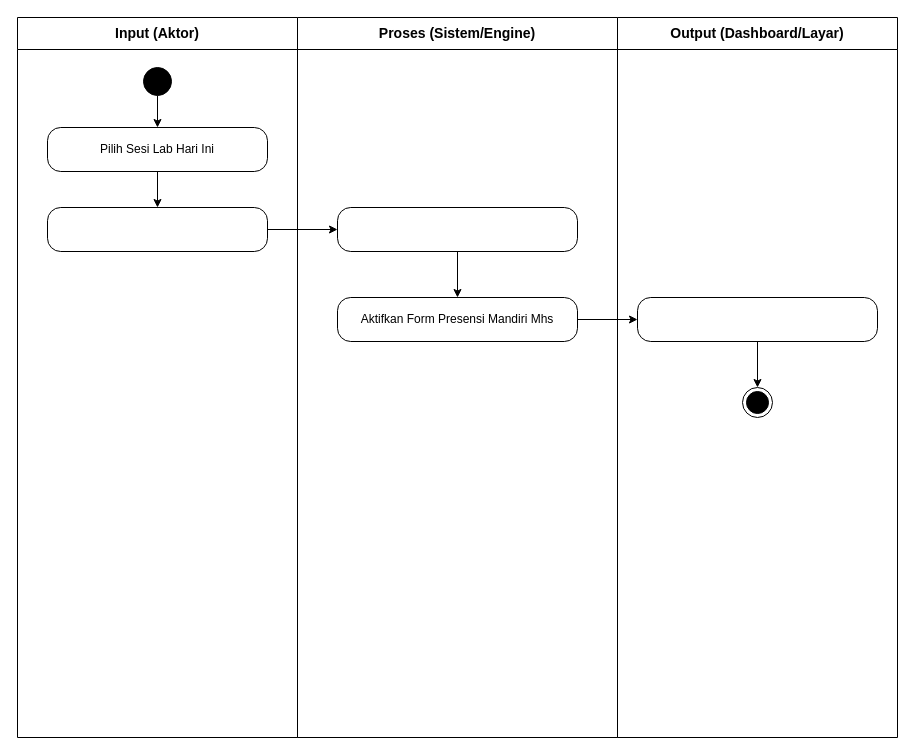
Some shapes in this 915 by 755 pixel diagram are drawn without their labels. Each missing label, with the centre of its shape:
Catat Waktu Mulai & Update Status Sesi 'AKTIF': point 457,229
Klik Buka Sesi Presensi Praktikum: point 157,229
Tampilkan Monitoring Realtime Sesi Lab: point 757,319
